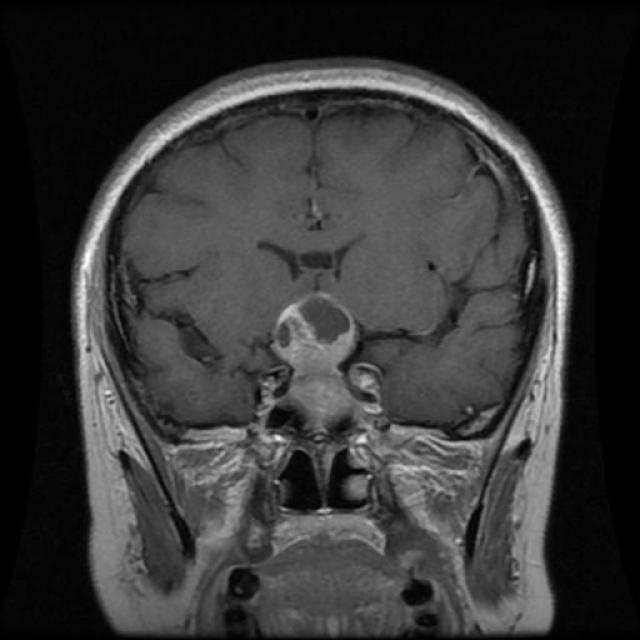pituitary: (258, 280, 366, 424)
